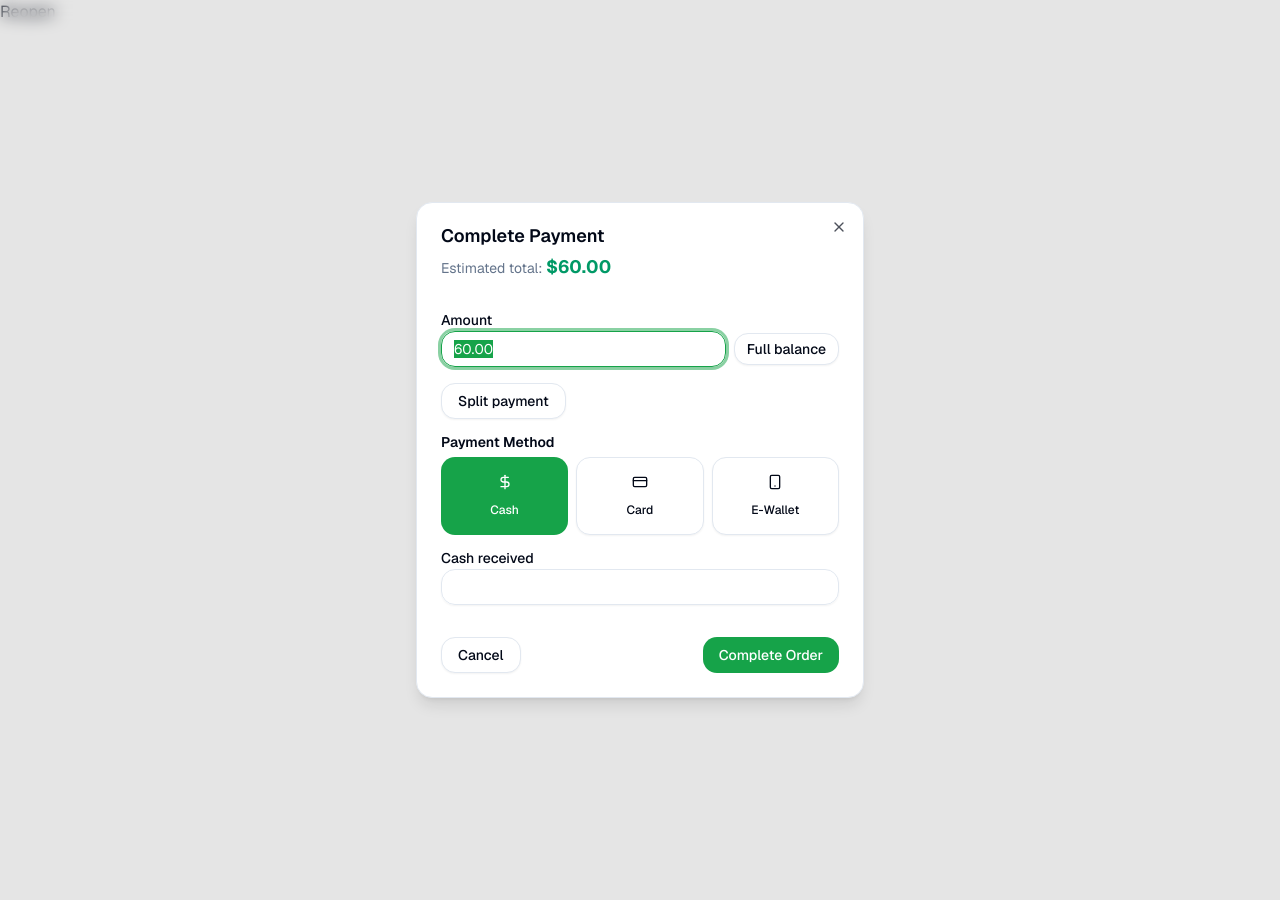
Test case: PaymentDialog — editable amount (partial payment) › an amount above the balance shows "Invalid amount" and blocks submit
Step 1. Replace the text in the field labelled "Amount" with "90" → (583, 349), box top-left (441, 331), bottom-right (726, 367)
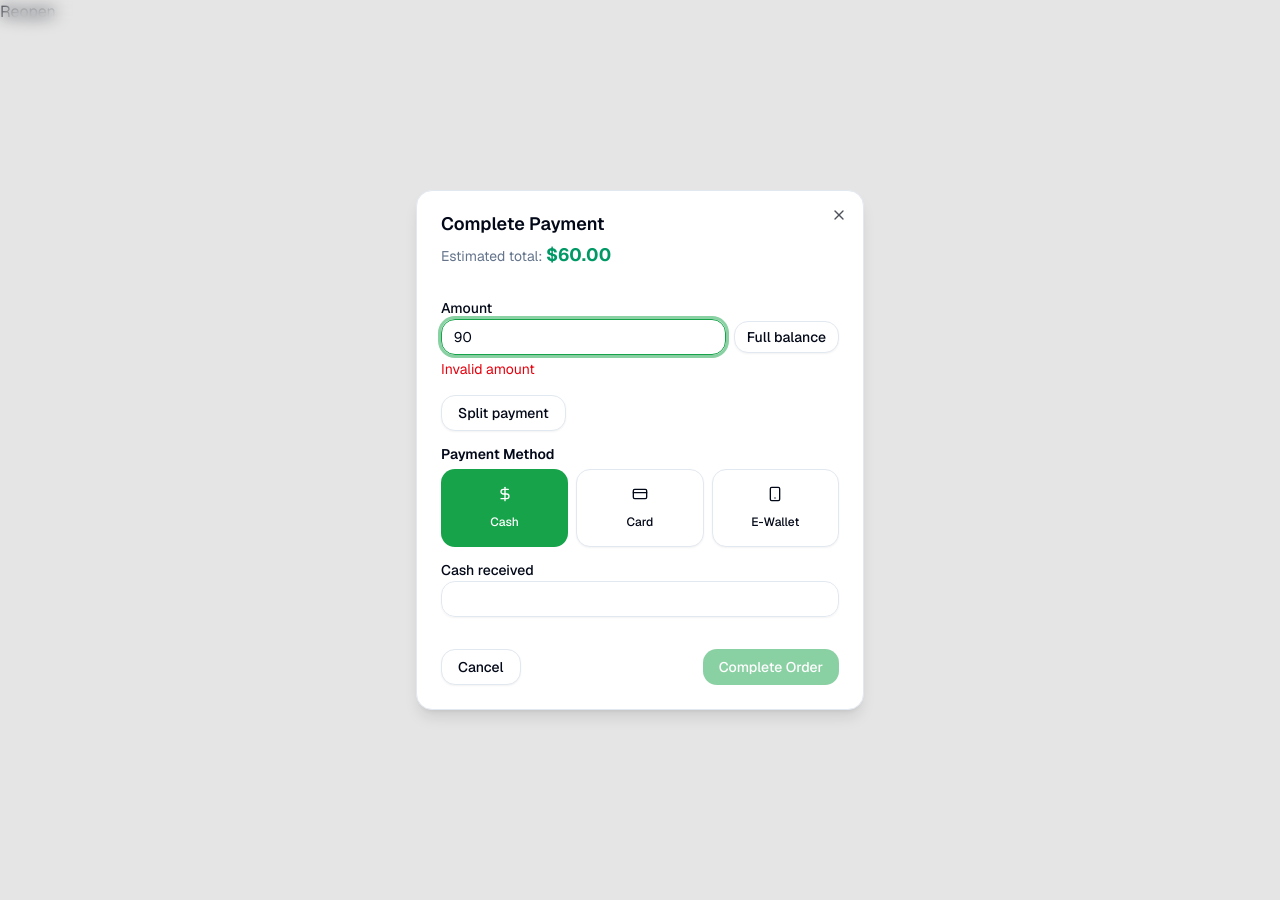
Check: the text "Invalid amount" is shown, box top-left (441, 360), bottom-right (535, 378)
Check: the button "Complete Order" is disabled, box top-left (703, 649), bottom-right (839, 685)
